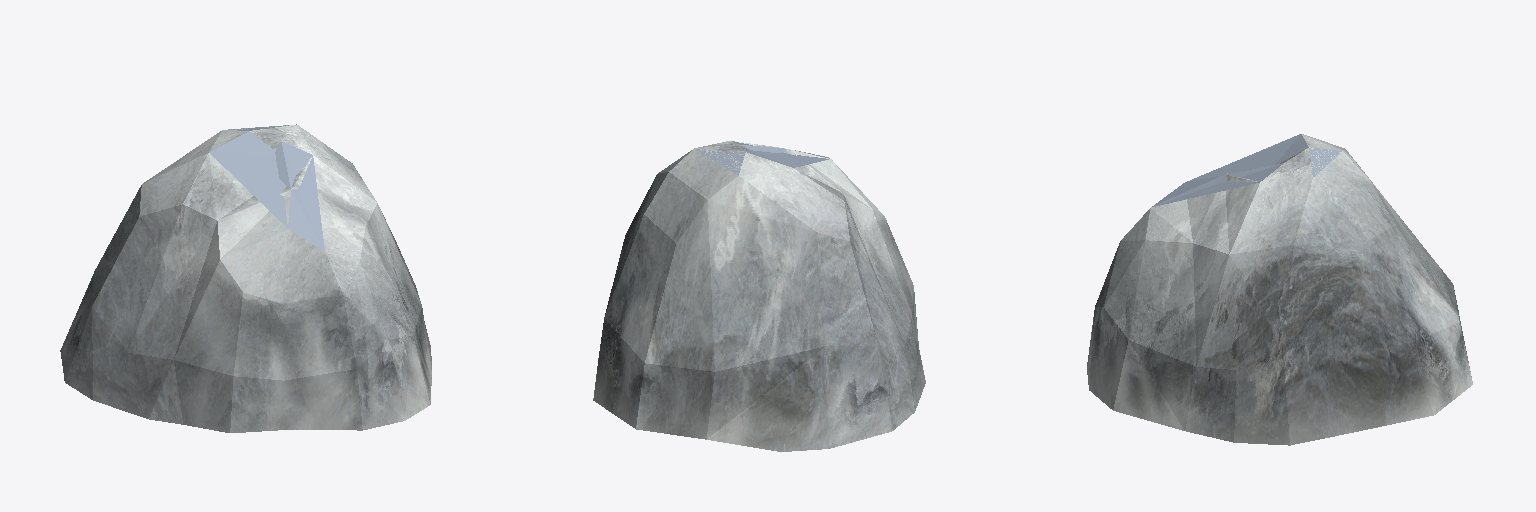
The picture shows the model from 3 angles: view 1: azimuth 30°, elevation 25°; view 2: azimuth 150°, elevation 25°; view 3: azimuth 270°, elevation 25°; orthographic projection.
Visible parts, largest first — view 1: boulder, frame_base; view 2: boulder, frame_base; view 3: boulder, frame_base.
Boxes of the visible parts, x1=… form: boulder: x1=60, y1=125, x2=431, y2=432; frame_base: x1=209, y1=124, x2=324, y2=251; boulder: x1=593, y1=141, x2=925, y2=451; frame_base: x1=694, y1=141, x2=829, y2=174; boulder: x1=1087, y1=134, x2=1472, y2=445; frame_base: x1=1152, y1=134, x2=1341, y2=206.
Size of the model in its own units: 213 by 145 by 226.
Materials: 2 (1 with a texture image).